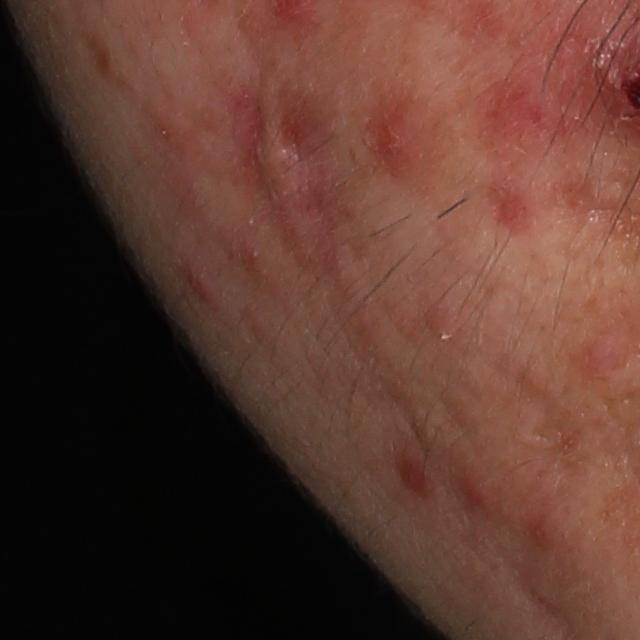papule: (375, 93, 436, 176), (445, 464, 498, 519), (514, 516, 568, 557), (398, 449, 441, 494), (183, 262, 219, 300)
